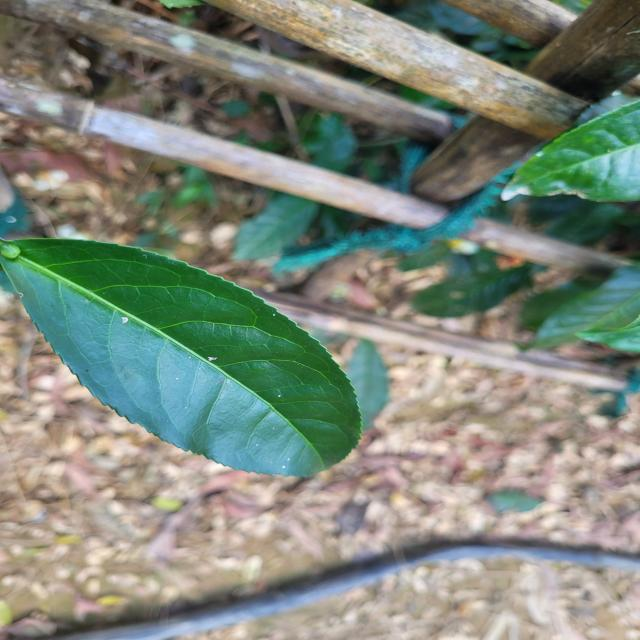Category D(7+ days, Not for Tea): (1, 218, 378, 503)
